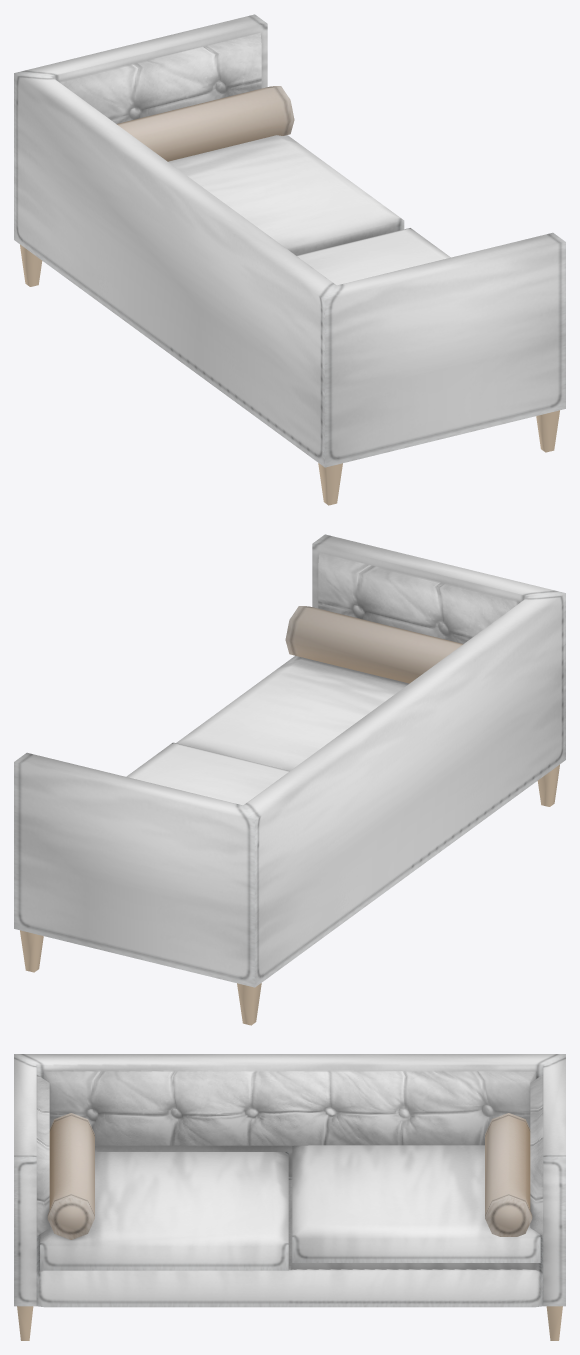
File: sofawhite.glb
The picture shows the model from 3 angles, top to bottom: view 1: azimuth 30°, elevation 25°; view 2: azimuth 150°, elevation 25°; view 3: azimuth 270°, elevation 25°; orthographic projection. The views are drawn at different scales.
Parts seen in each view (by area): view 1: Object_34.007; view 2: Object_34.007; view 3: Object_34.007.
Boxes of the visible parts, x1,y1,x2,y2 form: Object_34.007: (14,14,565,505); Object_34.007: (14,534,565,1025); Object_34.007: (14,1054,565,1340).
Bounding box in the file's own units: 0.6995 × 0.581 × 1.56.
1 material, 1 textured.
